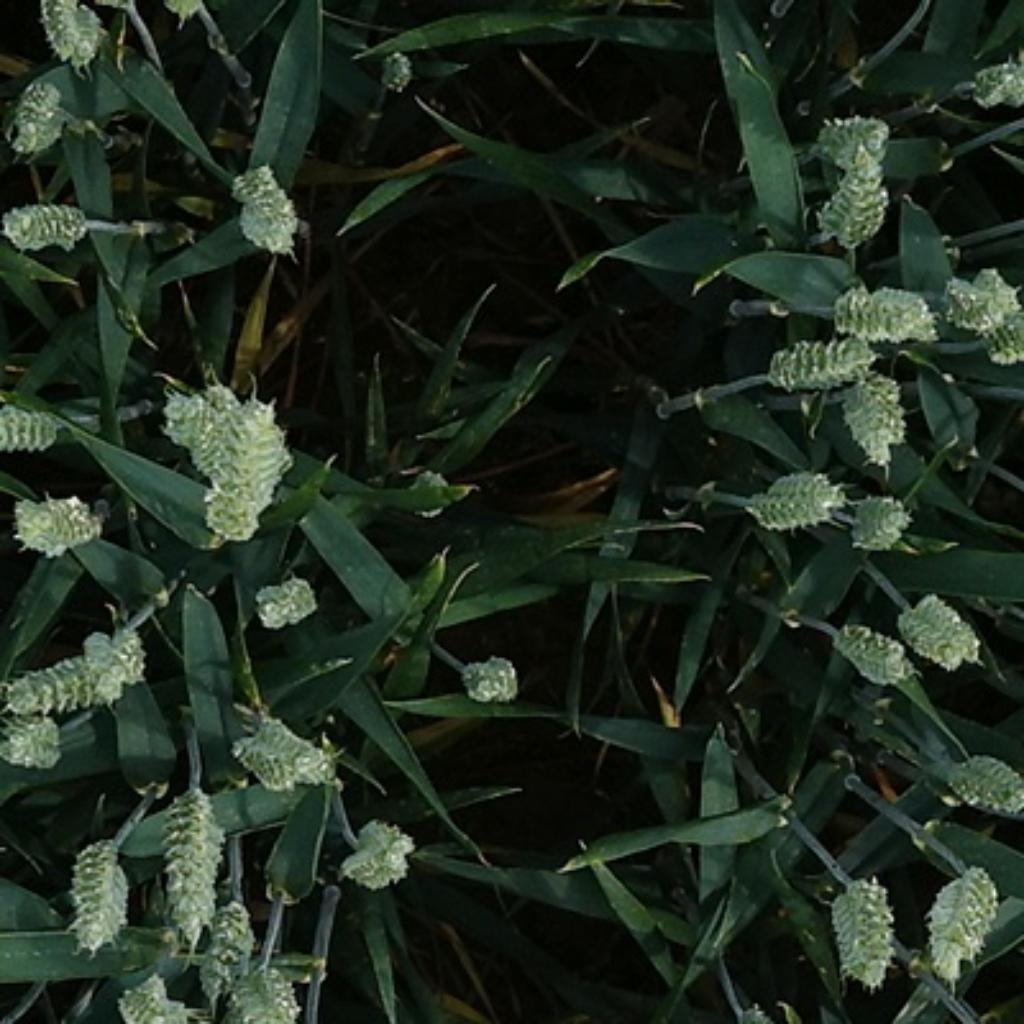0-0: (196, 398, 297, 545), (144, 793, 231, 957), (912, 865, 1005, 985), (227, 696, 343, 791), (189, 895, 272, 1024), (816, 865, 901, 988), (0, 183, 106, 267), (65, 844, 137, 964), (222, 151, 302, 256), (739, 460, 844, 532), (74, 616, 150, 715), (821, 153, 896, 253), (829, 279, 942, 345), (0, 651, 103, 723), (896, 586, 983, 670), (2, 486, 107, 555), (762, 327, 867, 394), (335, 811, 419, 893), (228, 949, 317, 1024), (2, 66, 74, 158), (832, 371, 908, 458), (934, 744, 1024, 814), (830, 615, 917, 682), (38, 1, 111, 73), (811, 112, 898, 171), (0, 708, 78, 772), (844, 486, 919, 550), (0, 397, 68, 466), (247, 572, 322, 629), (152, 387, 214, 451), (967, 266, 1023, 333), (112, 973, 185, 1024), (459, 653, 524, 706), (934, 273, 989, 334), (974, 55, 1023, 109), (985, 318, 1022, 372), (205, 380, 248, 424), (373, 50, 411, 92)
